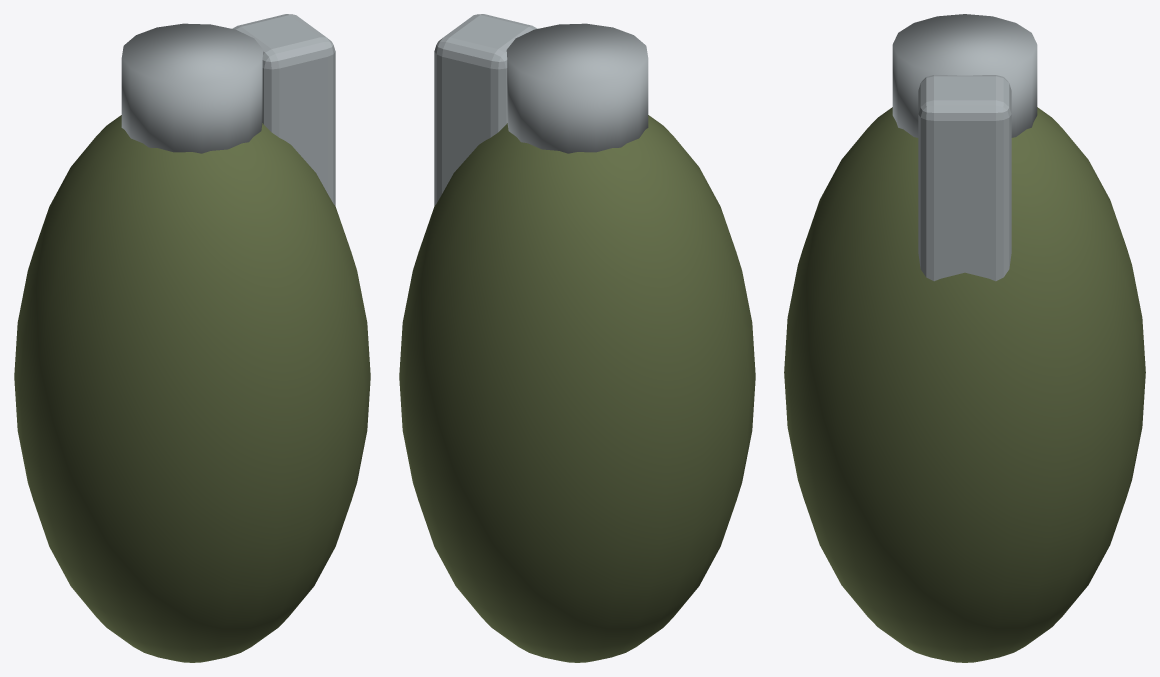
File: SM_Grenade.fbx
The picture shows the model from 3 angles, left to right: view 1: azimuth 30°, elevation 25°; view 2: azimuth 150°, elevation 25°; view 3: azimuth 270°, elevation 25°; orthographic projection.
Visible parts, largest first — view 1: SM_Grenade; view 2: SM_Grenade; view 3: SM_Grenade.
Part boxes in pixels (x1,y1,x2,y2): SM_Grenade: (14,14,370,662); SM_Grenade: (399,14,755,662); SM_Grenade: (784,14,1145,662).
Size of the model in its own units: 7 by 7 by 13.
